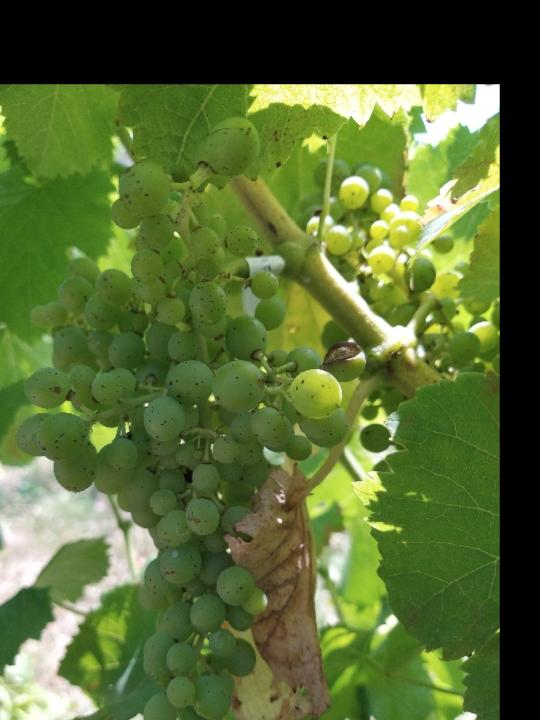grape: (17, 114, 369, 720)
